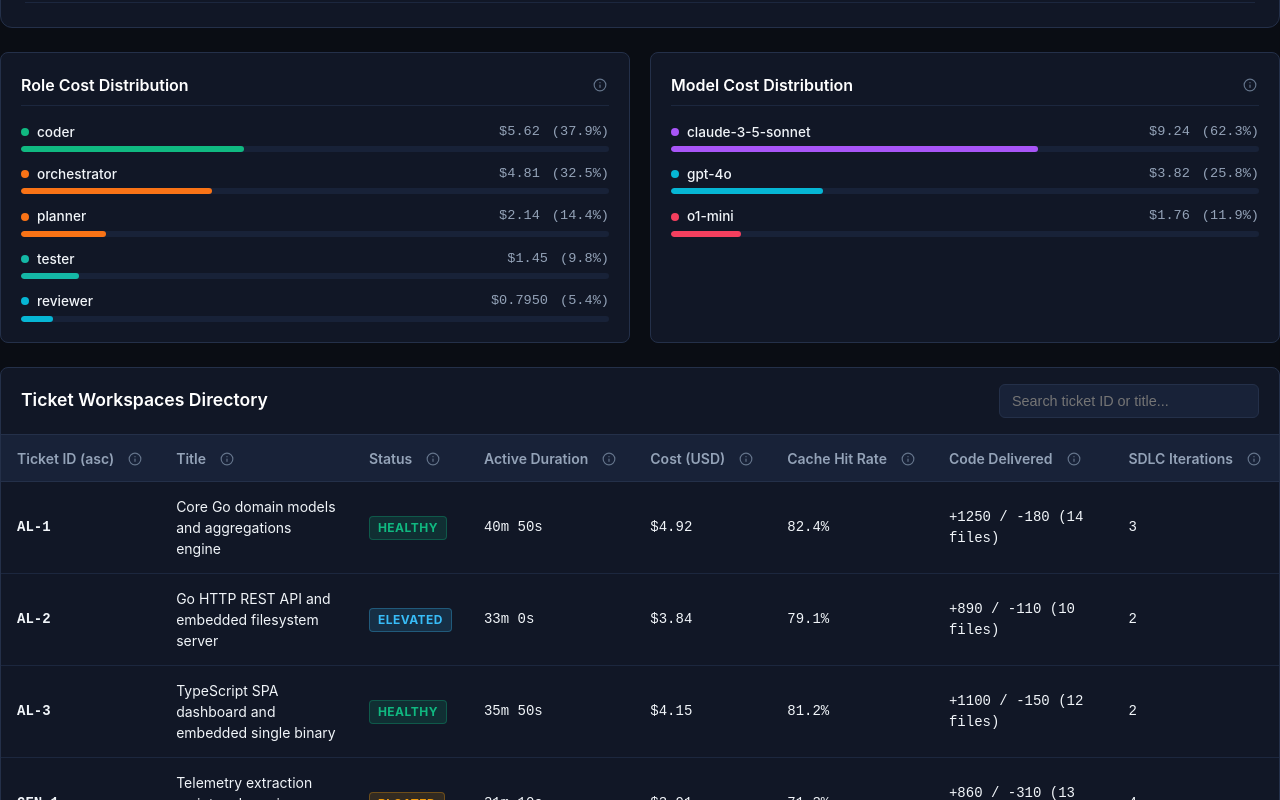
FleetOverview View Component › filters rows when user enters query in ticket table search
(page scrolled)
Check: the text "AL-1" is shown, box [1,482,160,574]
Type "AL-2" into the field named "filter tickets" at point(1129, 401), box [999,384,1259,418]
(page scrolled)
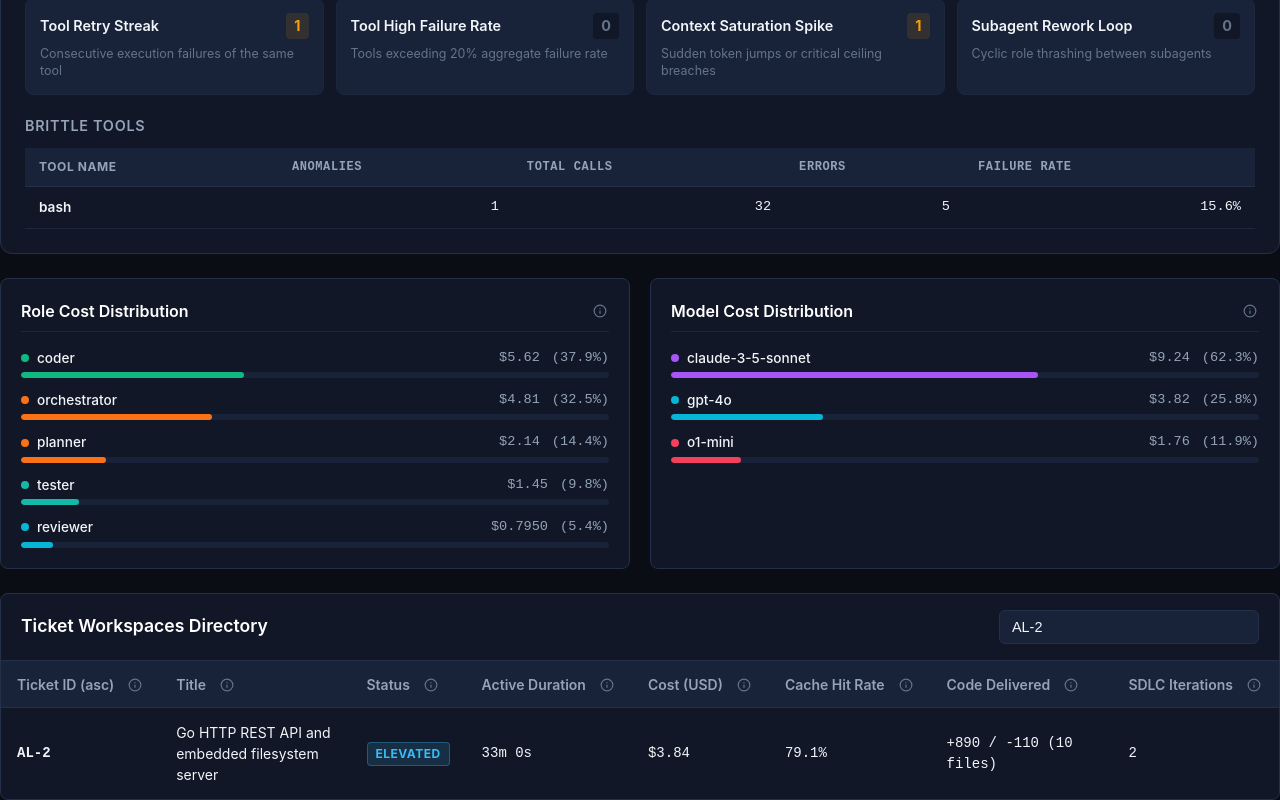
Check: the text "AL-2" is shown, box [1,708,160,799]
Check: the text "AL-1" is gone
